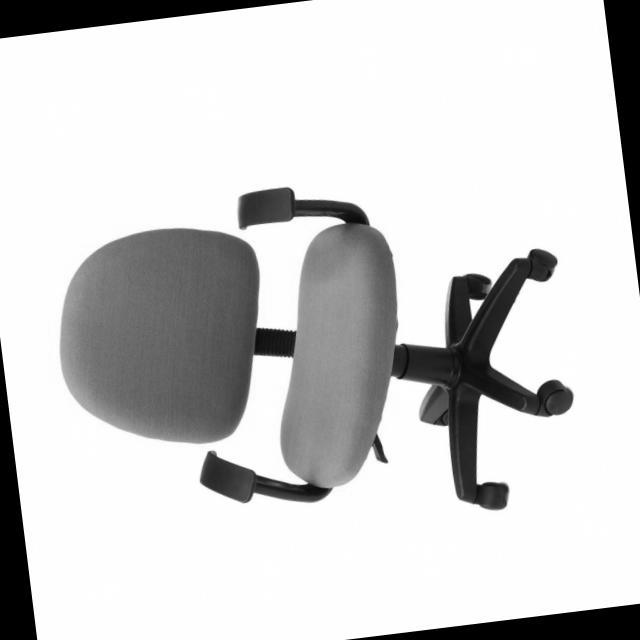chair: (40, 152, 587, 564)
